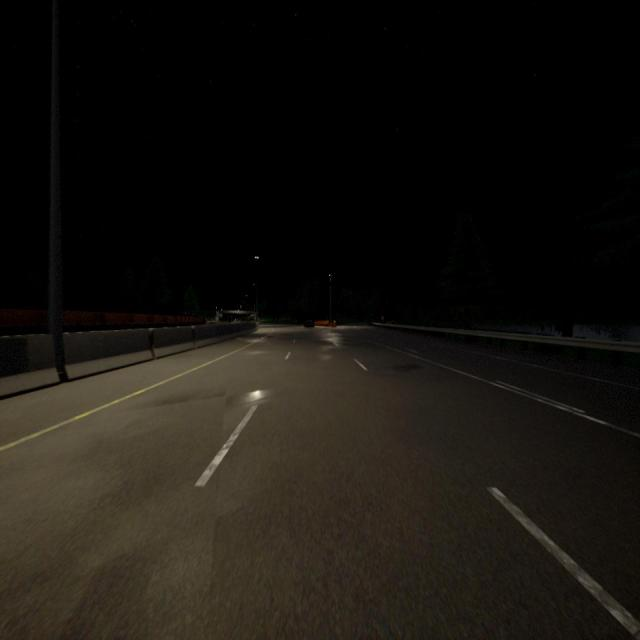Vehicle: (304, 319, 315, 329)
